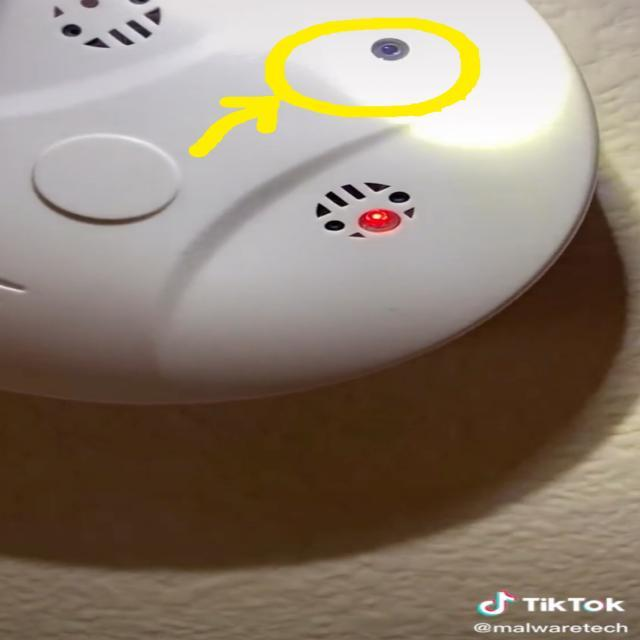hidden camera: (381, 44, 400, 56)
